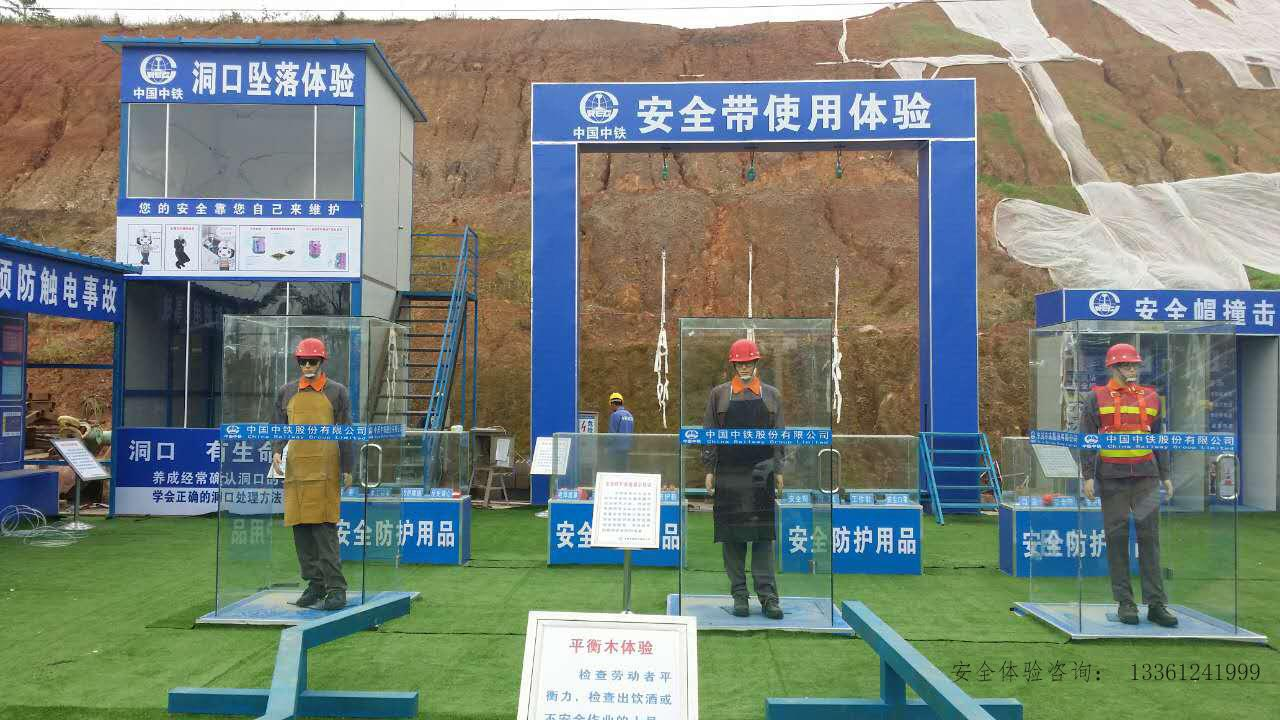helmet: (1101, 339, 1144, 383), (289, 332, 329, 378), (725, 336, 758, 377), (604, 388, 624, 410)
